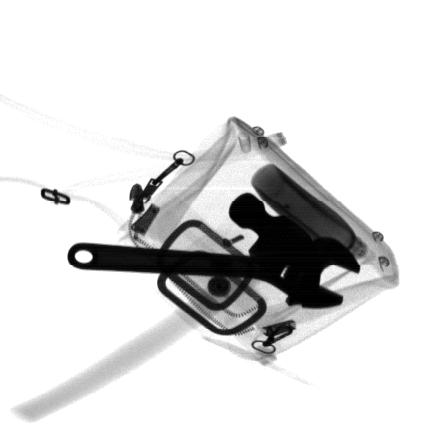Hammer: (8, 193, 321, 424)
Wrench: (67, 236, 361, 309)
